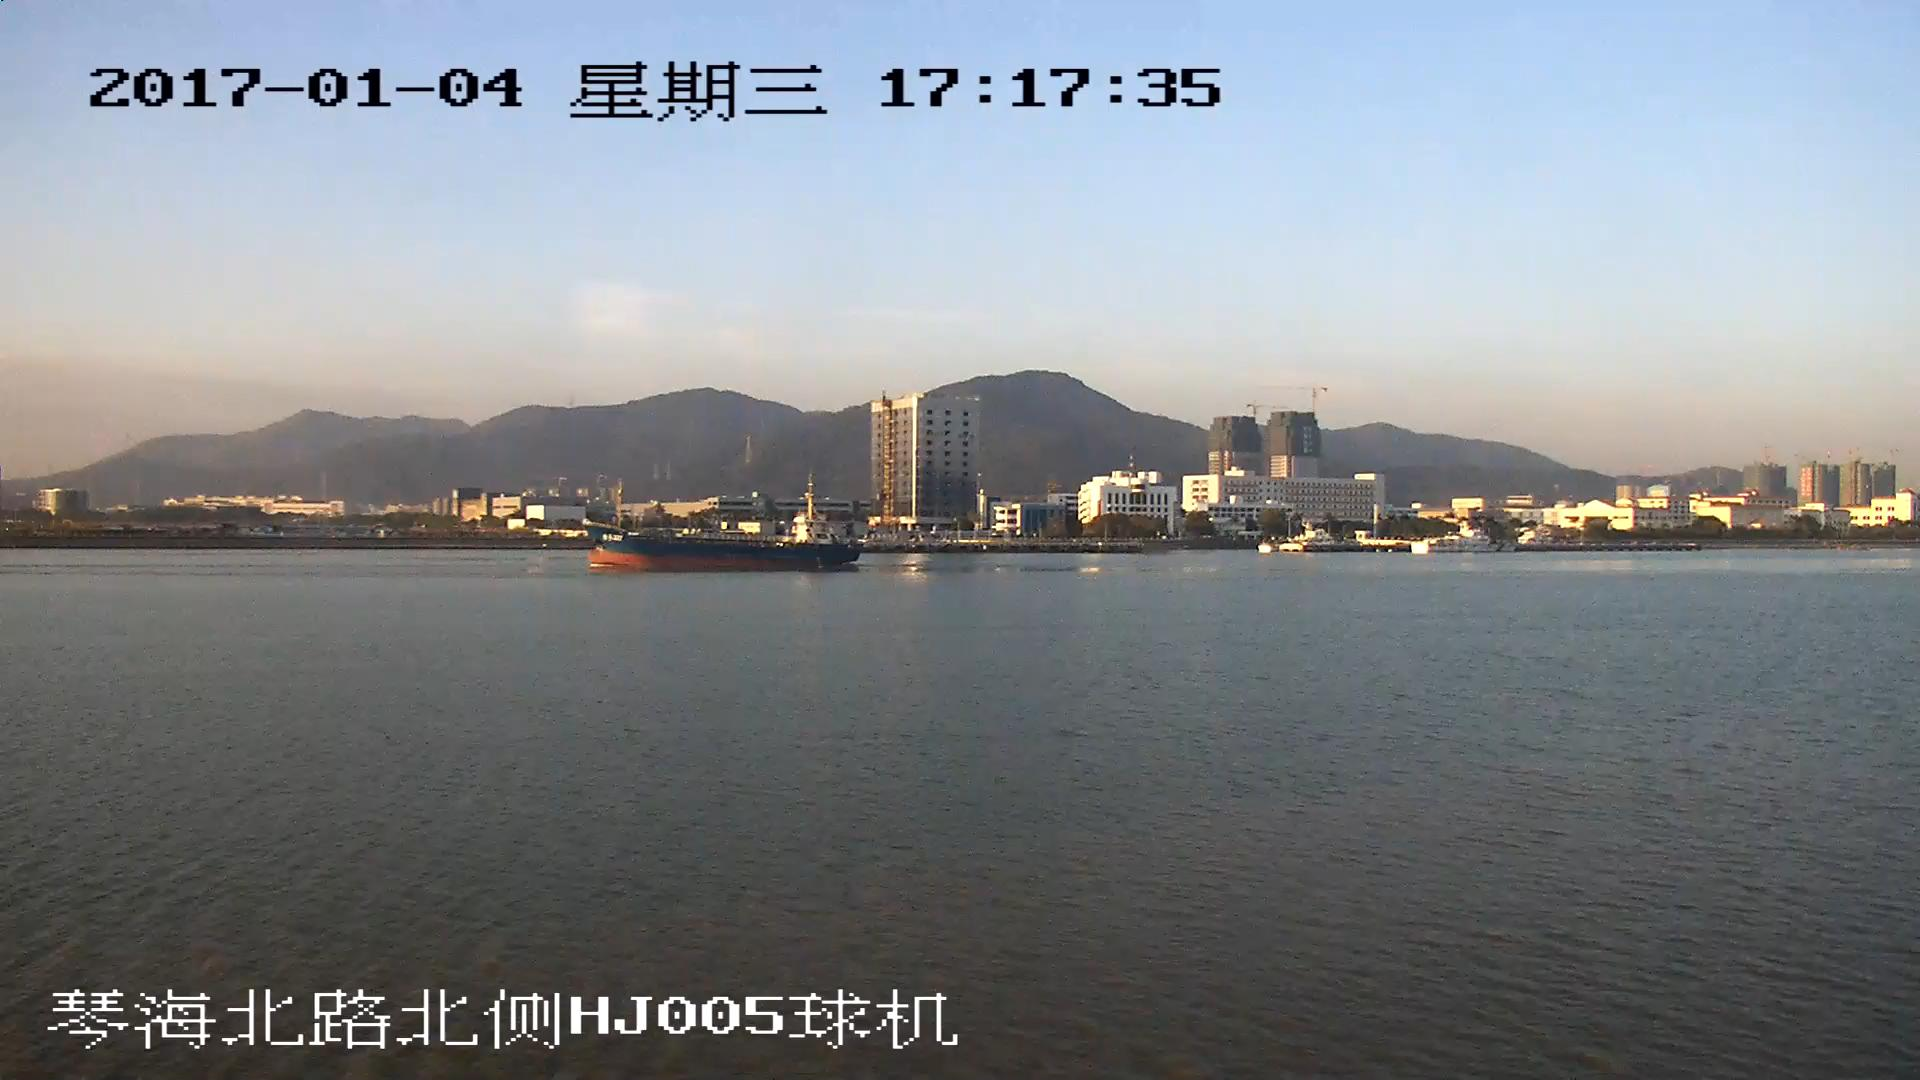general cargo ship: (587, 490, 861, 572)
